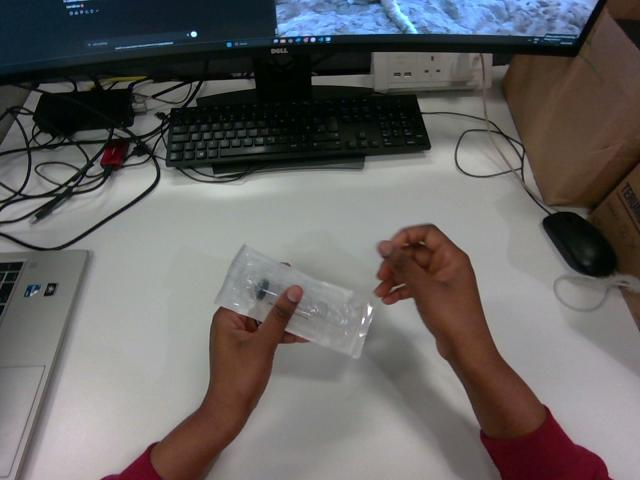syringe: (216, 245, 373, 357)
